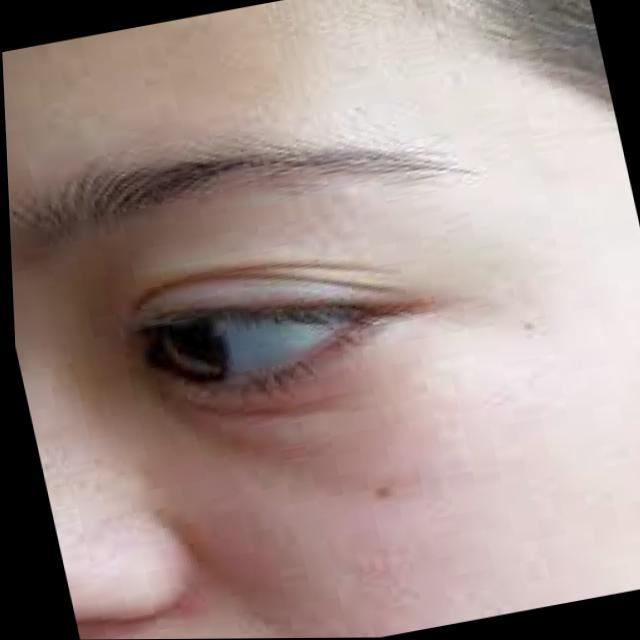Puffy Eyes - v3 Dark Circle: (160, 350, 493, 479)
